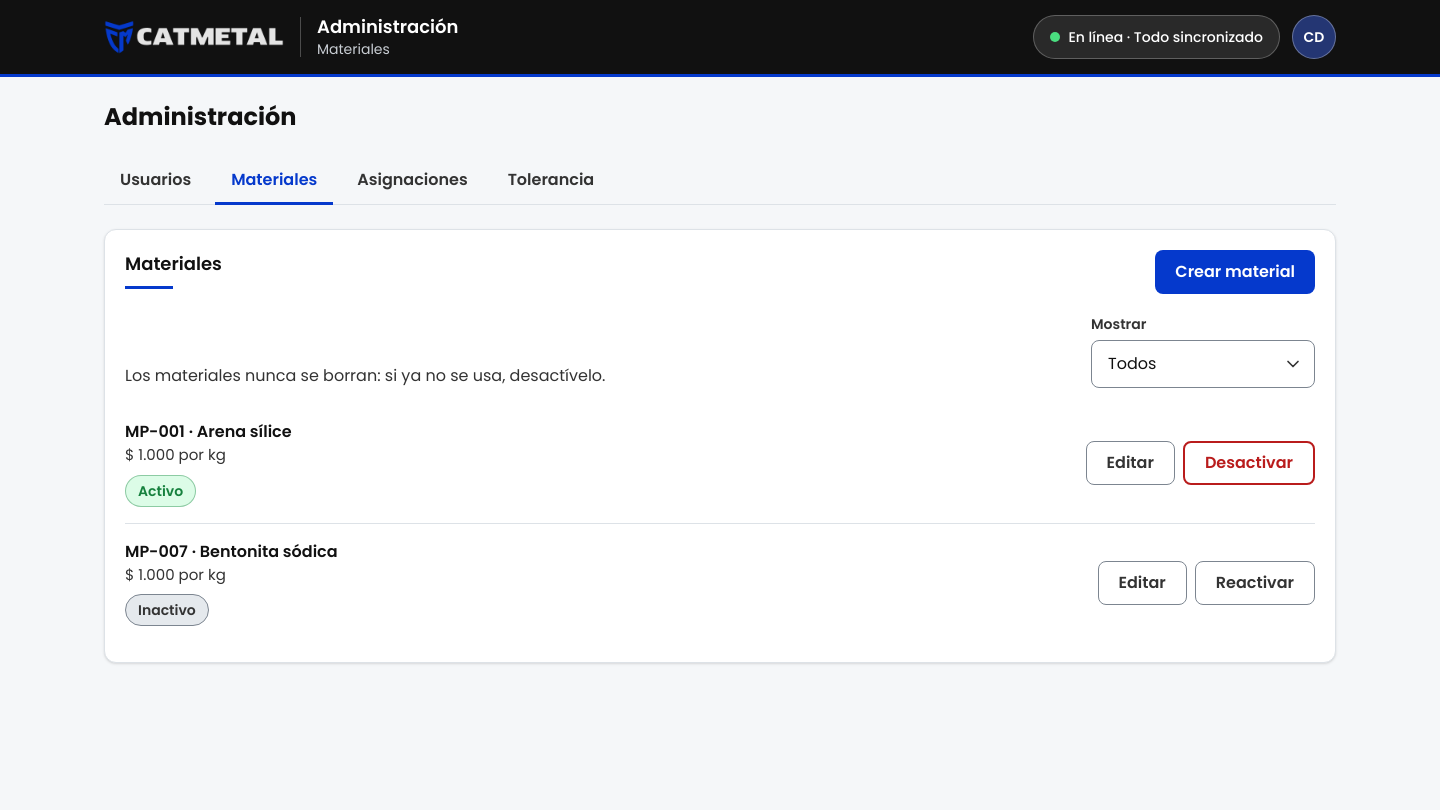
Test: Administración · materiales › filtra activos/inactivos y desactiva con confirmación
Select "Solo inactivos" in the dropdown labelled "Mostrar" at (1203, 364), box [1091,340,1315,388]
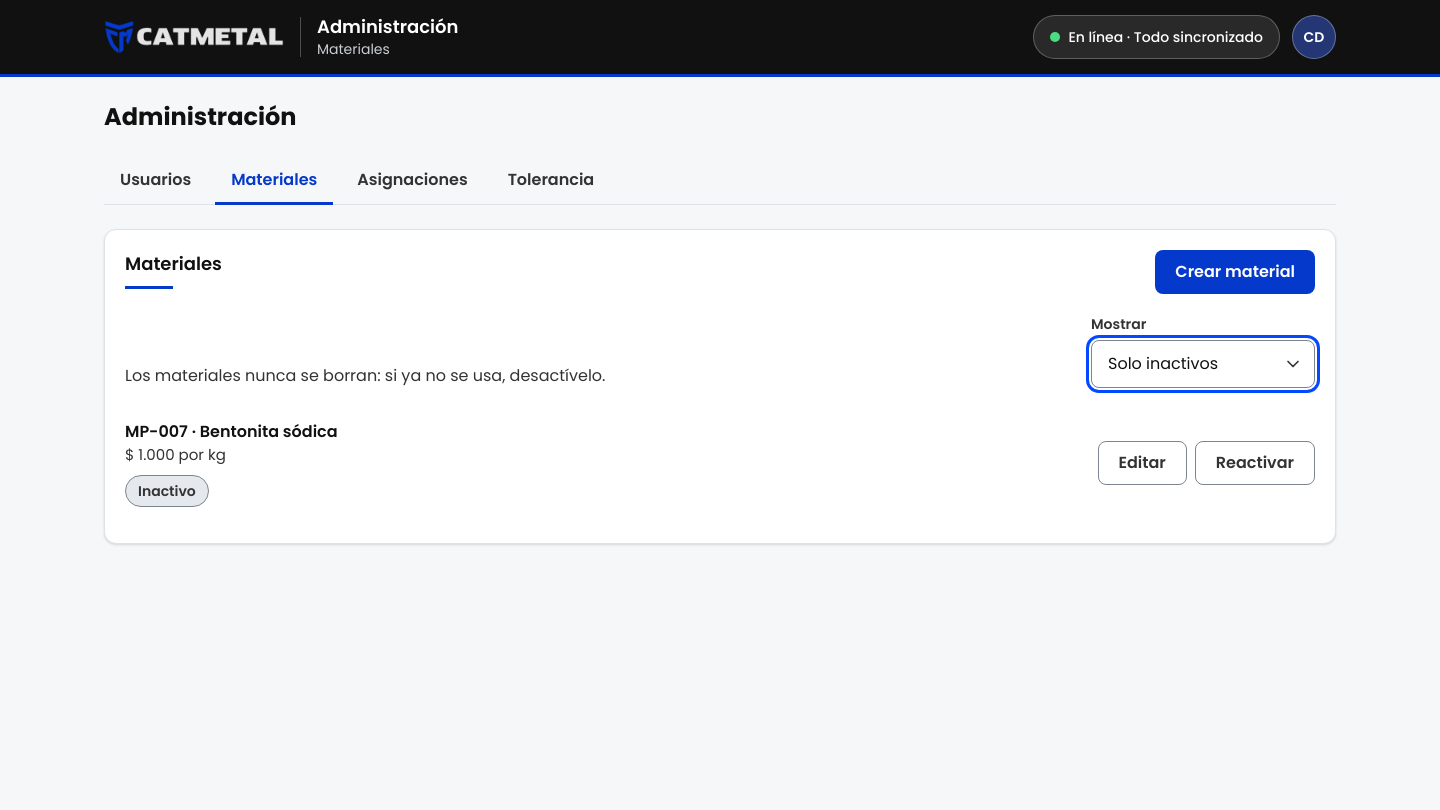
Expected: the text "MP-007 · Bentonita sódica" is shown, [125,420,338,444]
Select "Solo activos" in the dropdown labelled "Mostrar" at (1203, 364), box [1091,340,1315,388]
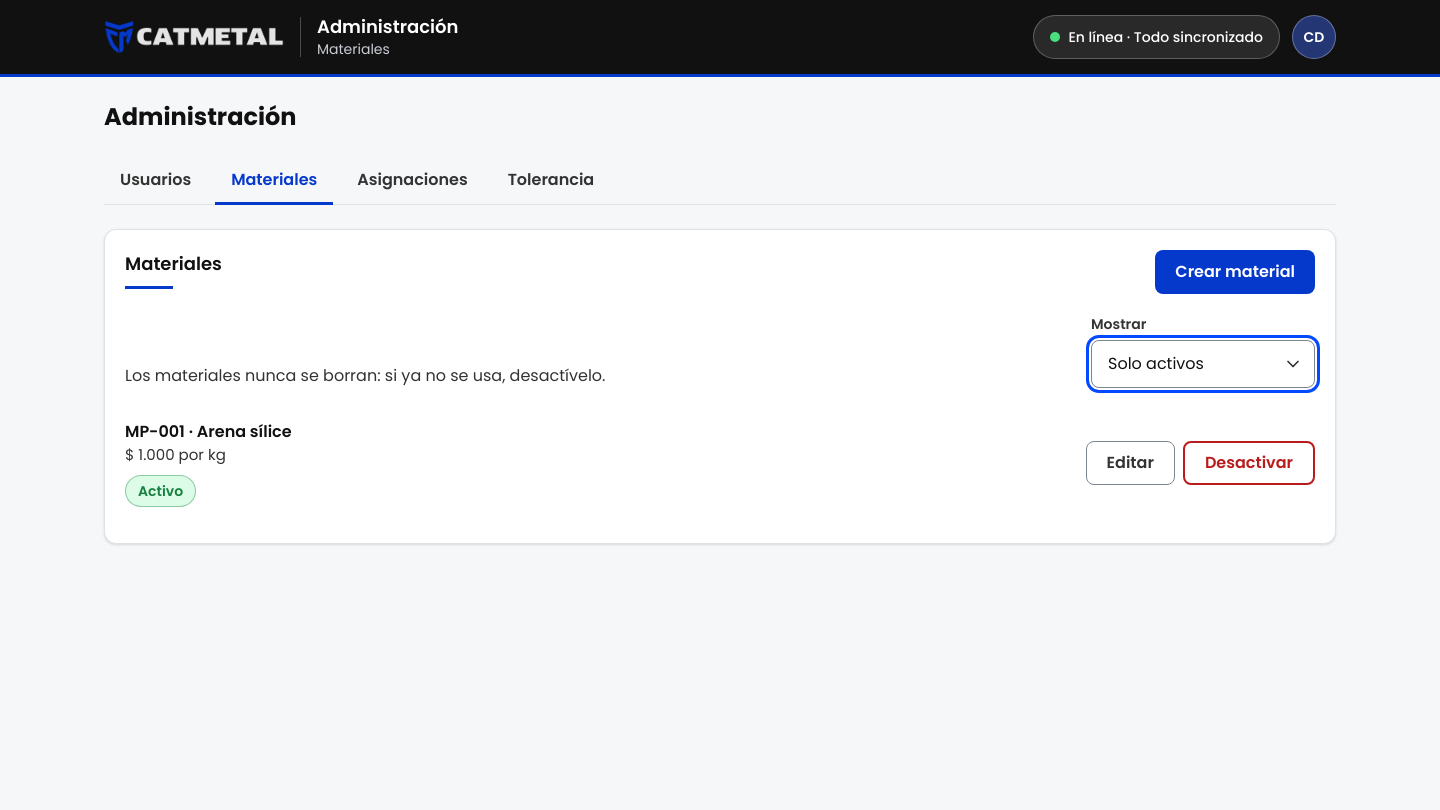
Click the button with aria-label "Desactivar el material MP-001" at (1249, 463), box [1183,441,1315,485]
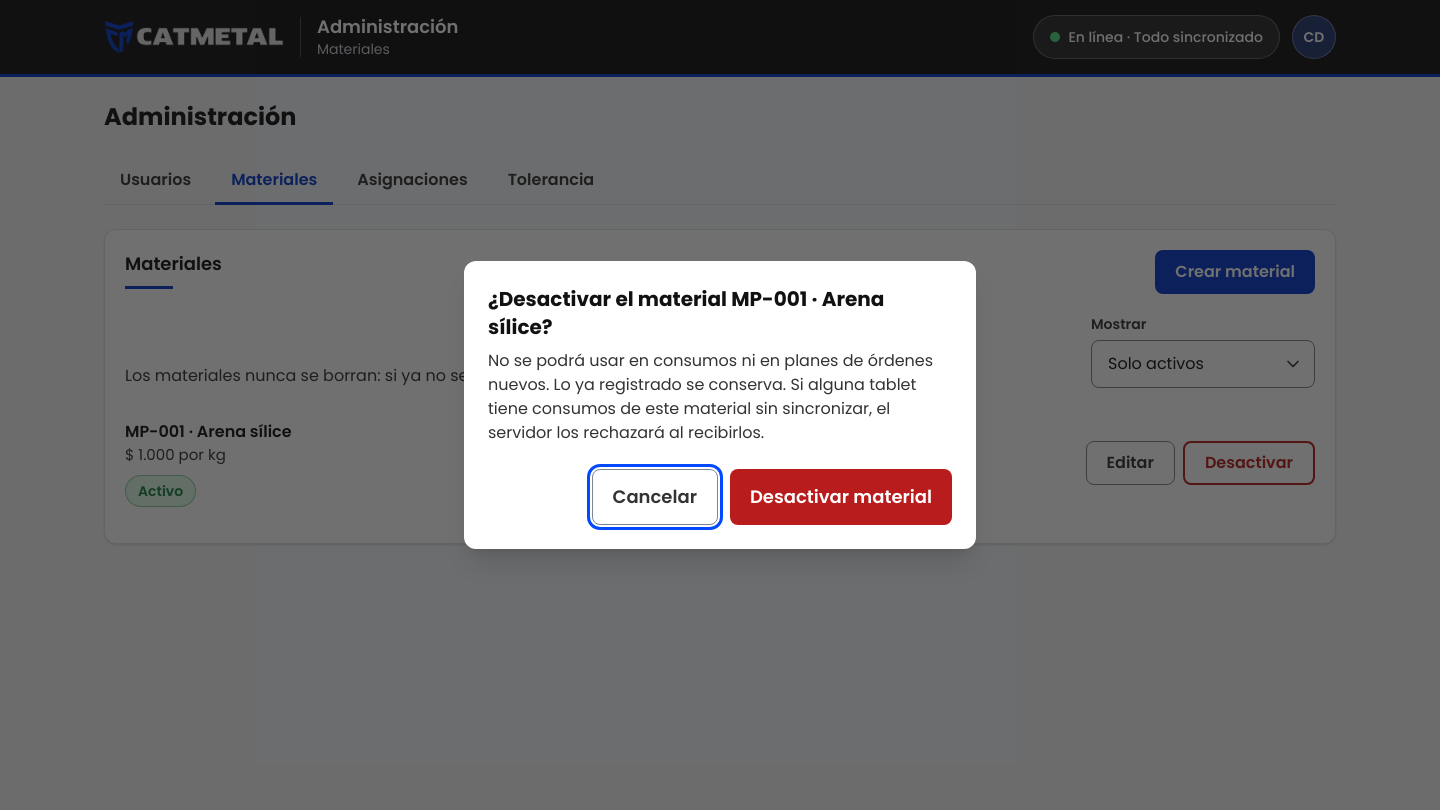
Expected: the dialog "Desactivar el material MP-001" shows "el servidor los rechazará al recibirlos", [488,349,933,444]
Click the button "Desactivar material" at (841, 497), box [730,469,952,525]
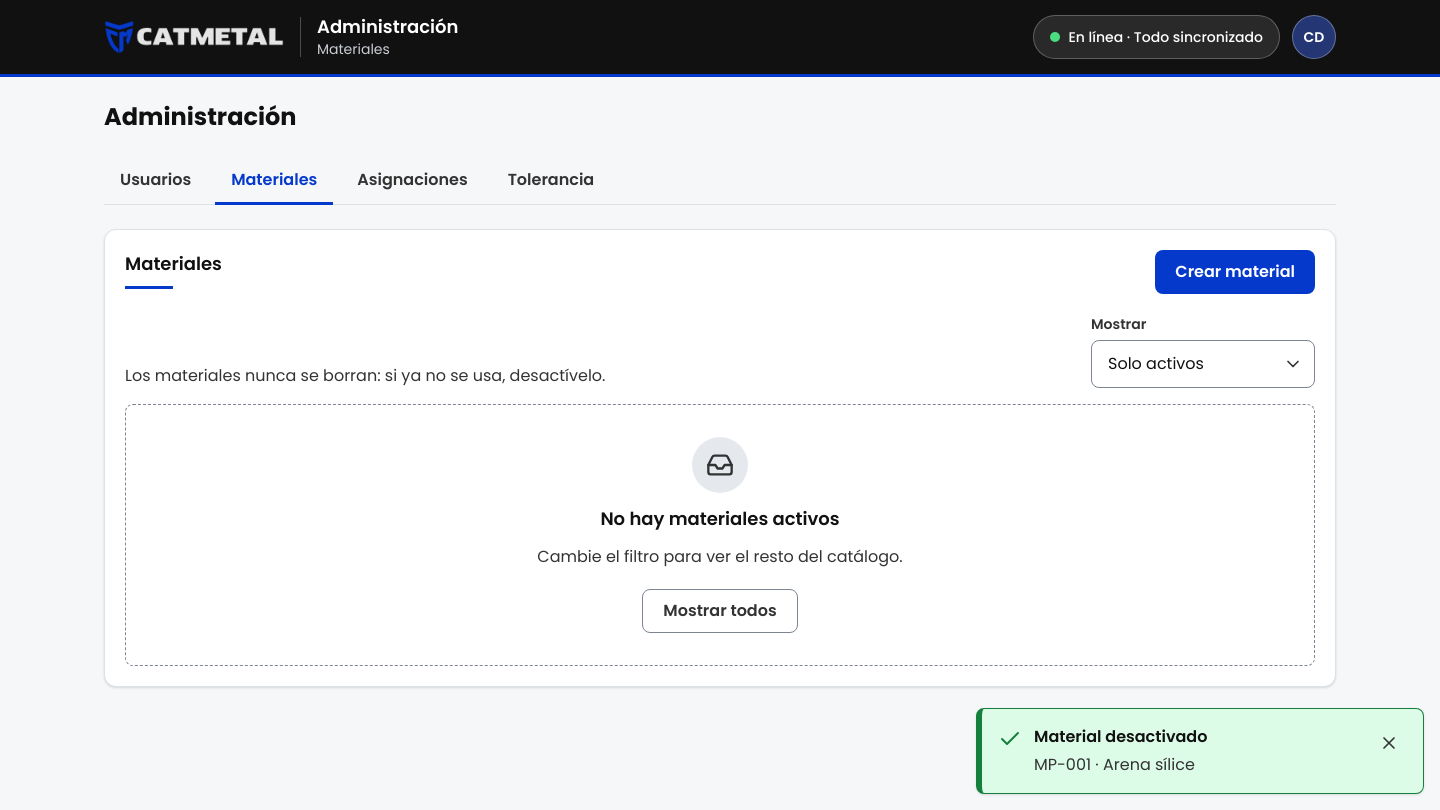
Expected: the text "Material desactivado" is shown, [1033,724,1207,748]
